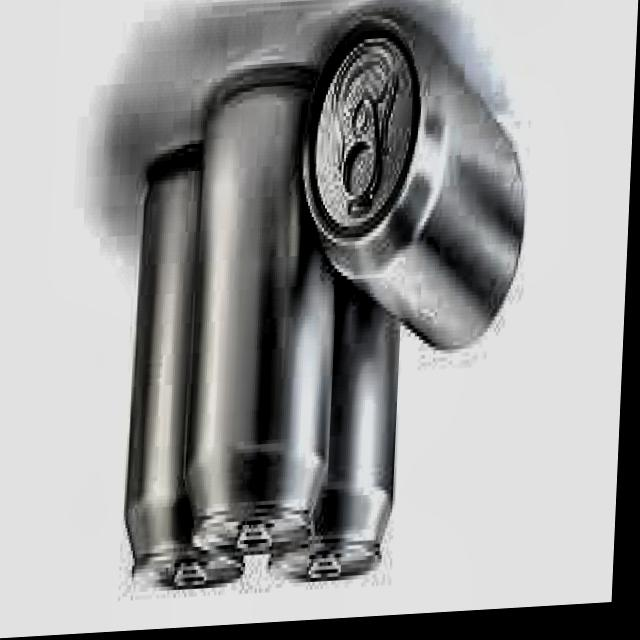can: (292, 0, 537, 370), (183, 62, 350, 570), (124, 147, 268, 602), (268, 238, 410, 596)
